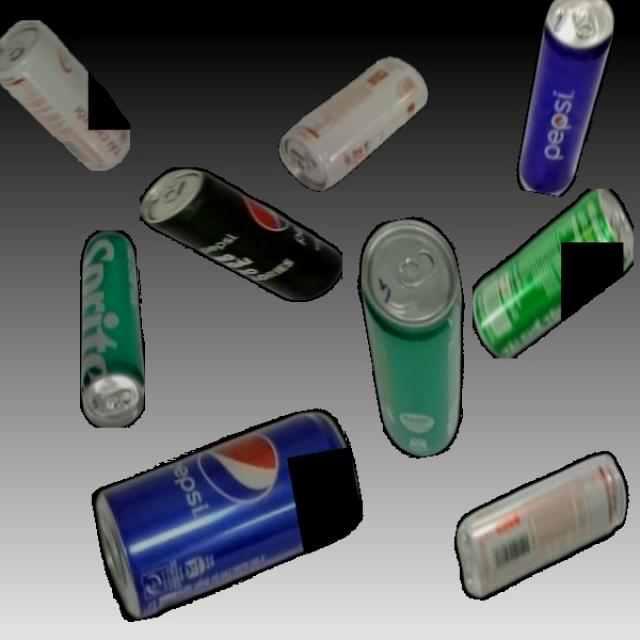debris: (83, 404, 376, 624), (446, 429, 636, 622), (348, 211, 490, 463), (472, 188, 634, 358), (139, 167, 342, 302), (273, 40, 433, 207), (514, 0, 621, 201), (0, 20, 130, 171), (79, 229, 145, 428)
